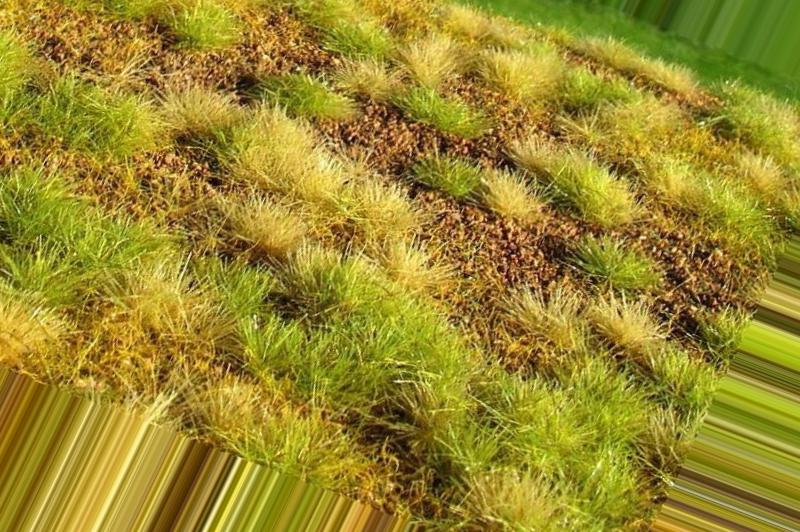patch: (517, 231, 585, 286), (434, 208, 476, 248), (674, 253, 723, 287)
